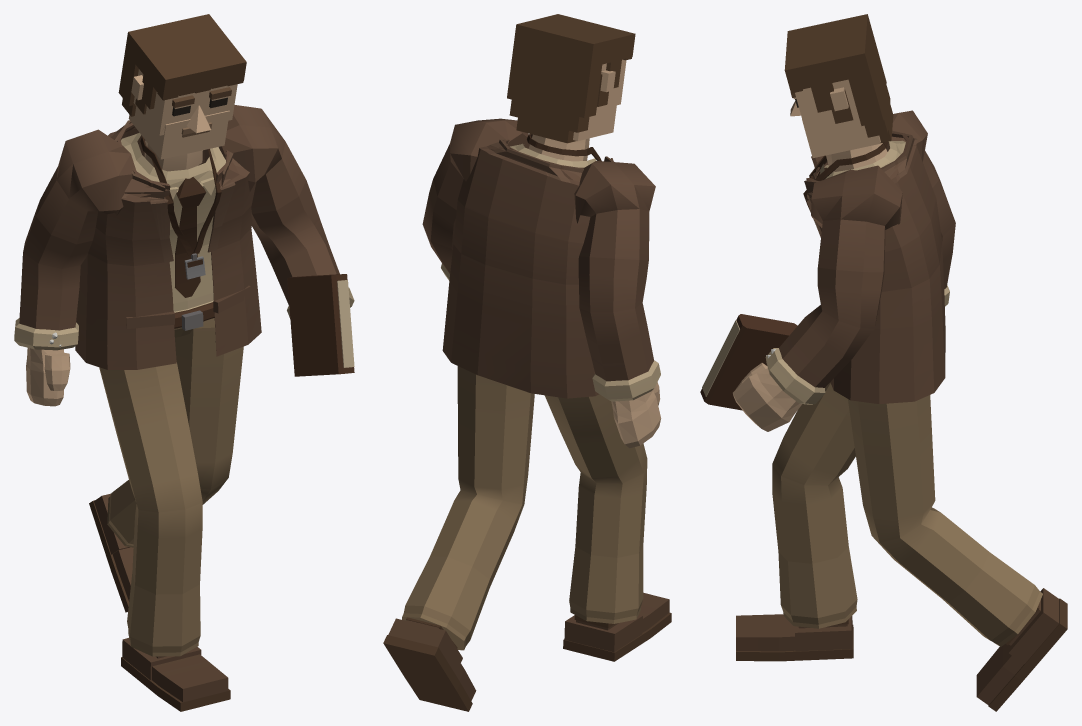
The model's file is school-teacher-8b8bfc__walk5.glb.
3 renders of one model, left to right at view 1: azimuth 30°, elevation 25°; view 2: azimuth 150°, elevation 25°; view 3: azimuth 270°, elevation 25°, orthographic.
Parts seen in each view (by area): view 1: school-teacher-8b8bfc__walk5; view 2: school-teacher-8b8bfc__walk5; view 3: school-teacher-8b8bfc__walk5.
Boxes of the visible parts, <box> form: school-teacher-8b8bfc__walk5: <box>14,14,354,711</box>; school-teacher-8b8bfc__walk5: <box>383,14,671,711</box>; school-teacher-8b8bfc__walk5: <box>700,14,1067,711</box>.
Size of the model in its own units: 0.7609 by 1.71 by 0.8854.
